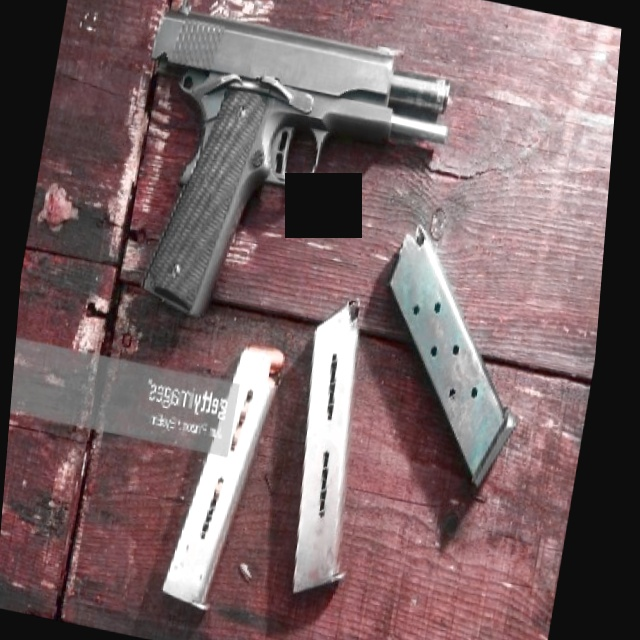gun: (103, 0, 468, 358)
